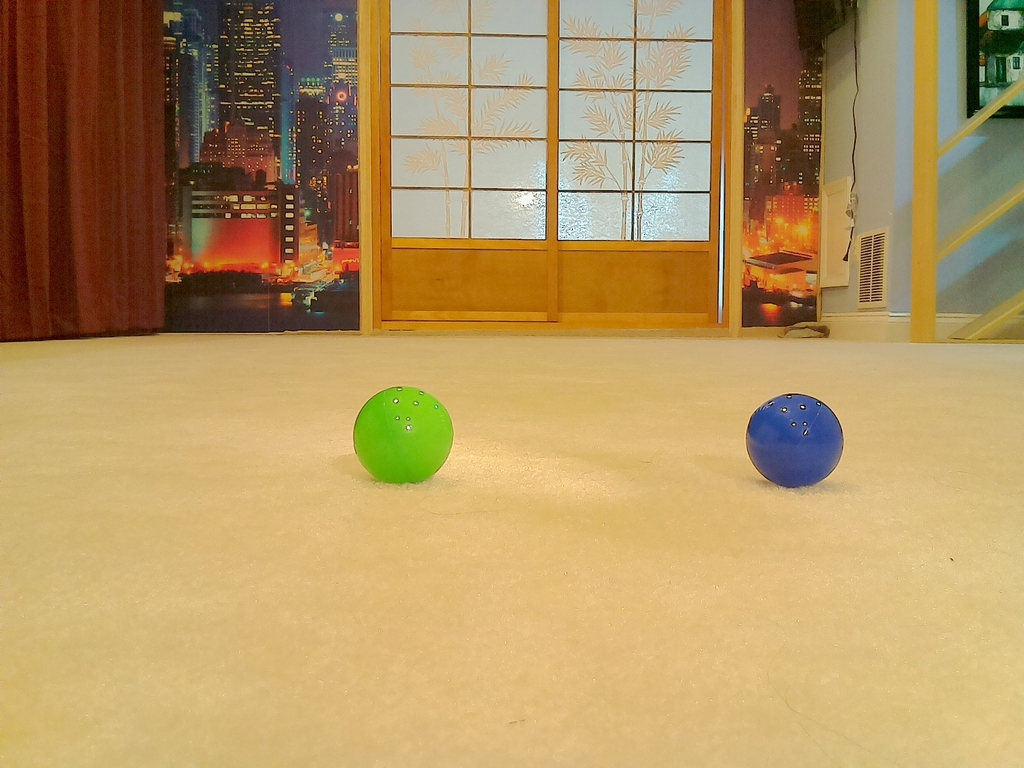ball: (355, 389, 452, 486)
